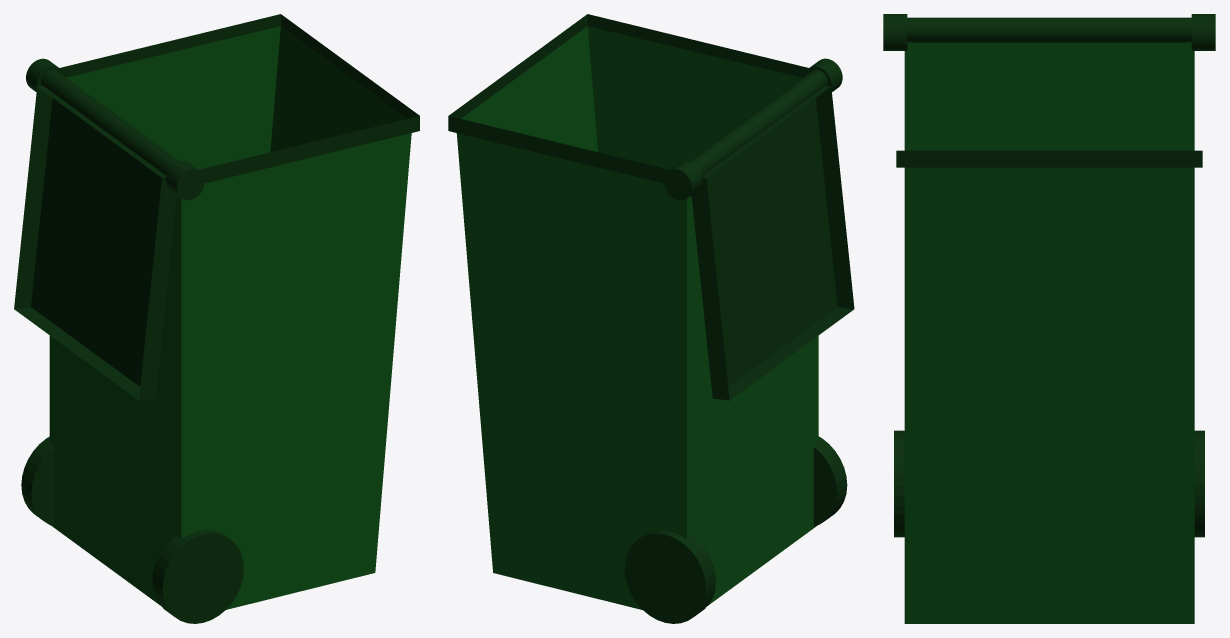
The model's file is pikitup_bin.gltf.
3 renders of one model, left to right at view 1: azimuth 30°, elevation 25°; view 2: azimuth 150°, elevation 25°; view 3: azimuth 270°, elevation 25°, orthographic. The views are drawn at different scales.
Parts seen in each view (by area): view 1: Cube, Cube.002, Cube.001, Cylinder.002, Cylinder, Cylinder.001, Cylinder.003, Cylinder.004; view 2: Cube, Cube.002, Cube.001, Cylinder.001, Cylinder, Cylinder.002, Cylinder.004, Cylinder.003; view 3: Cube, Cylinder, Cube.001, Cylinder.002, Cylinder.001, Cylinder.003, Cylinder.004.
Boxes of the visible parts, x1,y1,x2,y2 form: Cube: (49, 26, 411, 609); Cube.002: (14, 86, 176, 400); Cube.001: (60, 14, 419, 183); Cylinder.002: (152, 530, 243, 623); Cylinder: (41, 70, 179, 175); Cylinder.001: (21, 436, 54, 526); Cylinder.003: (166, 161, 204, 200); Cylinder.004: (26, 58, 64, 91); Cube: (456, 26, 818, 609); Cube.002: (691, 86, 854, 400); Cube.001: (448, 14, 808, 183); Cylinder.001: (624, 530, 715, 623); Cylinder: (688, 69, 827, 175); Cylinder.002: (813, 436, 847, 526); Cylinder.004: (663, 161, 702, 200); Cylinder.003: (804, 58, 842, 91); Cube: (904, 42, 1194, 623); Cylinder: (907, 17, 1191, 42); Cube.001: (896, 150, 1202, 167); Cylinder.002: (894, 430, 904, 537); Cylinder.001: (1194, 430, 1204, 537); Cylinder.003: (883, 14, 907, 50); Cylinder.004: (1191, 14, 1215, 50).
Size of the model in its own units: 4.89 by 7.87 by 4.66.
